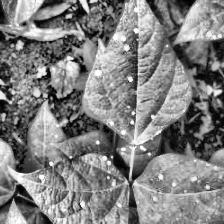Bean Rust: (81, 0, 189, 144), (16, 154, 134, 224), (140, 161, 224, 224), (21, 103, 67, 173), (177, 0, 224, 39), (113, 135, 164, 168)
